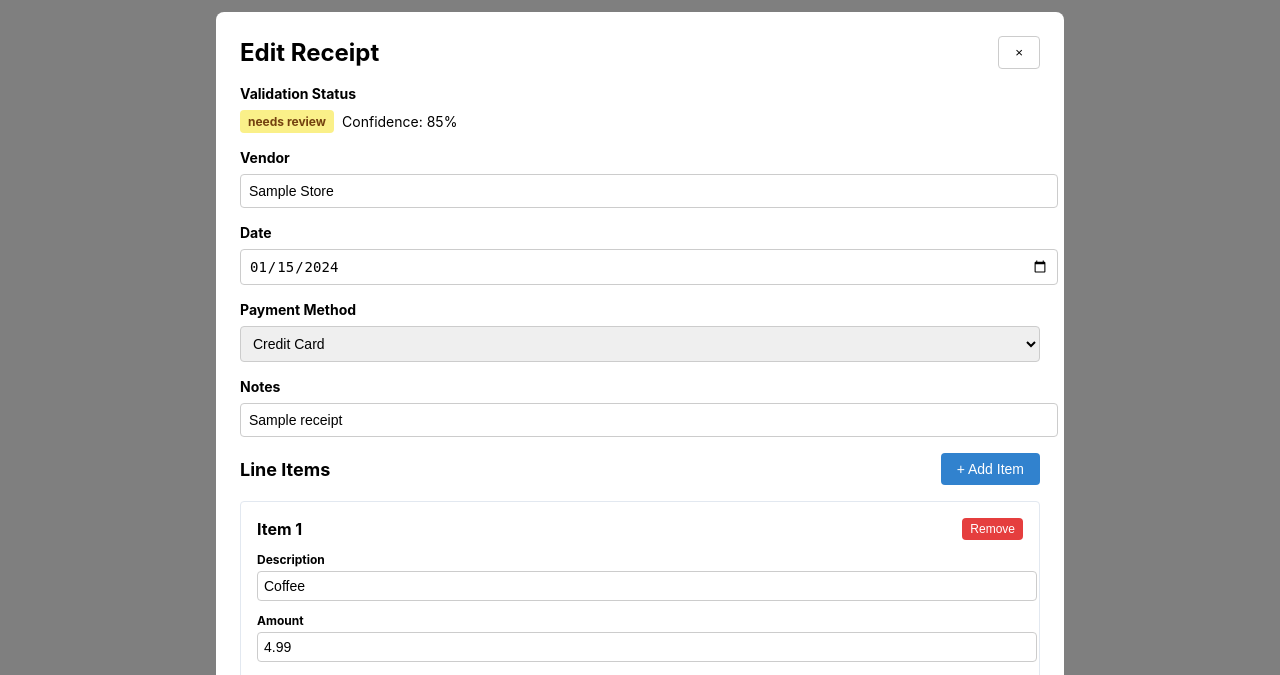
Test: ReceiptEditModal › can add new line item
The width and height of the screenshot is (1280, 675).
Click the button "+ Add Item": [990, 469] box [941,453,1040,485]
(page scrolled)
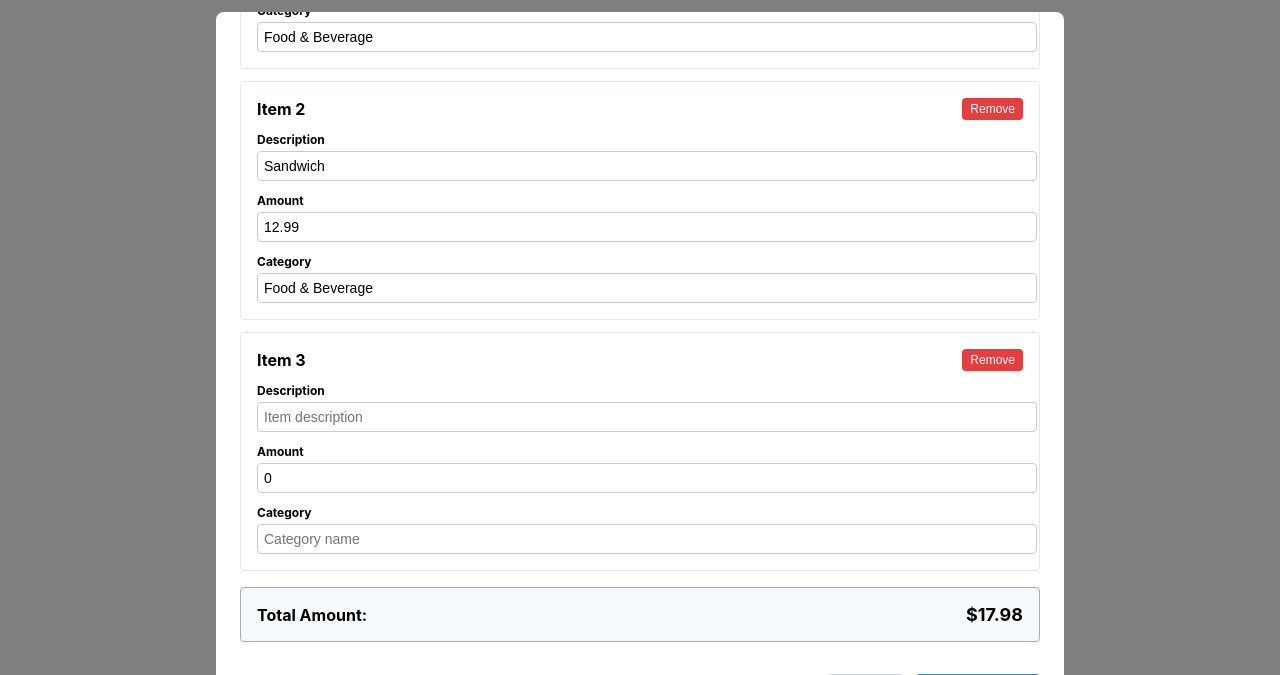
Check: the text "Item 3" is shown, box [257,350,306,370]
